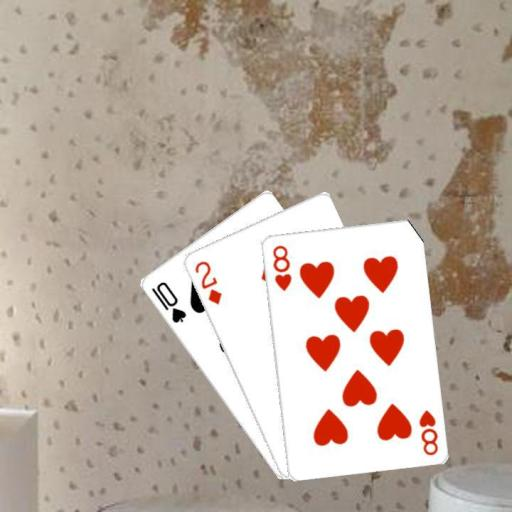10S: (147, 278, 188, 325)
2D: (191, 257, 223, 306)
8H: (269, 242, 293, 292), (416, 407, 440, 457)
